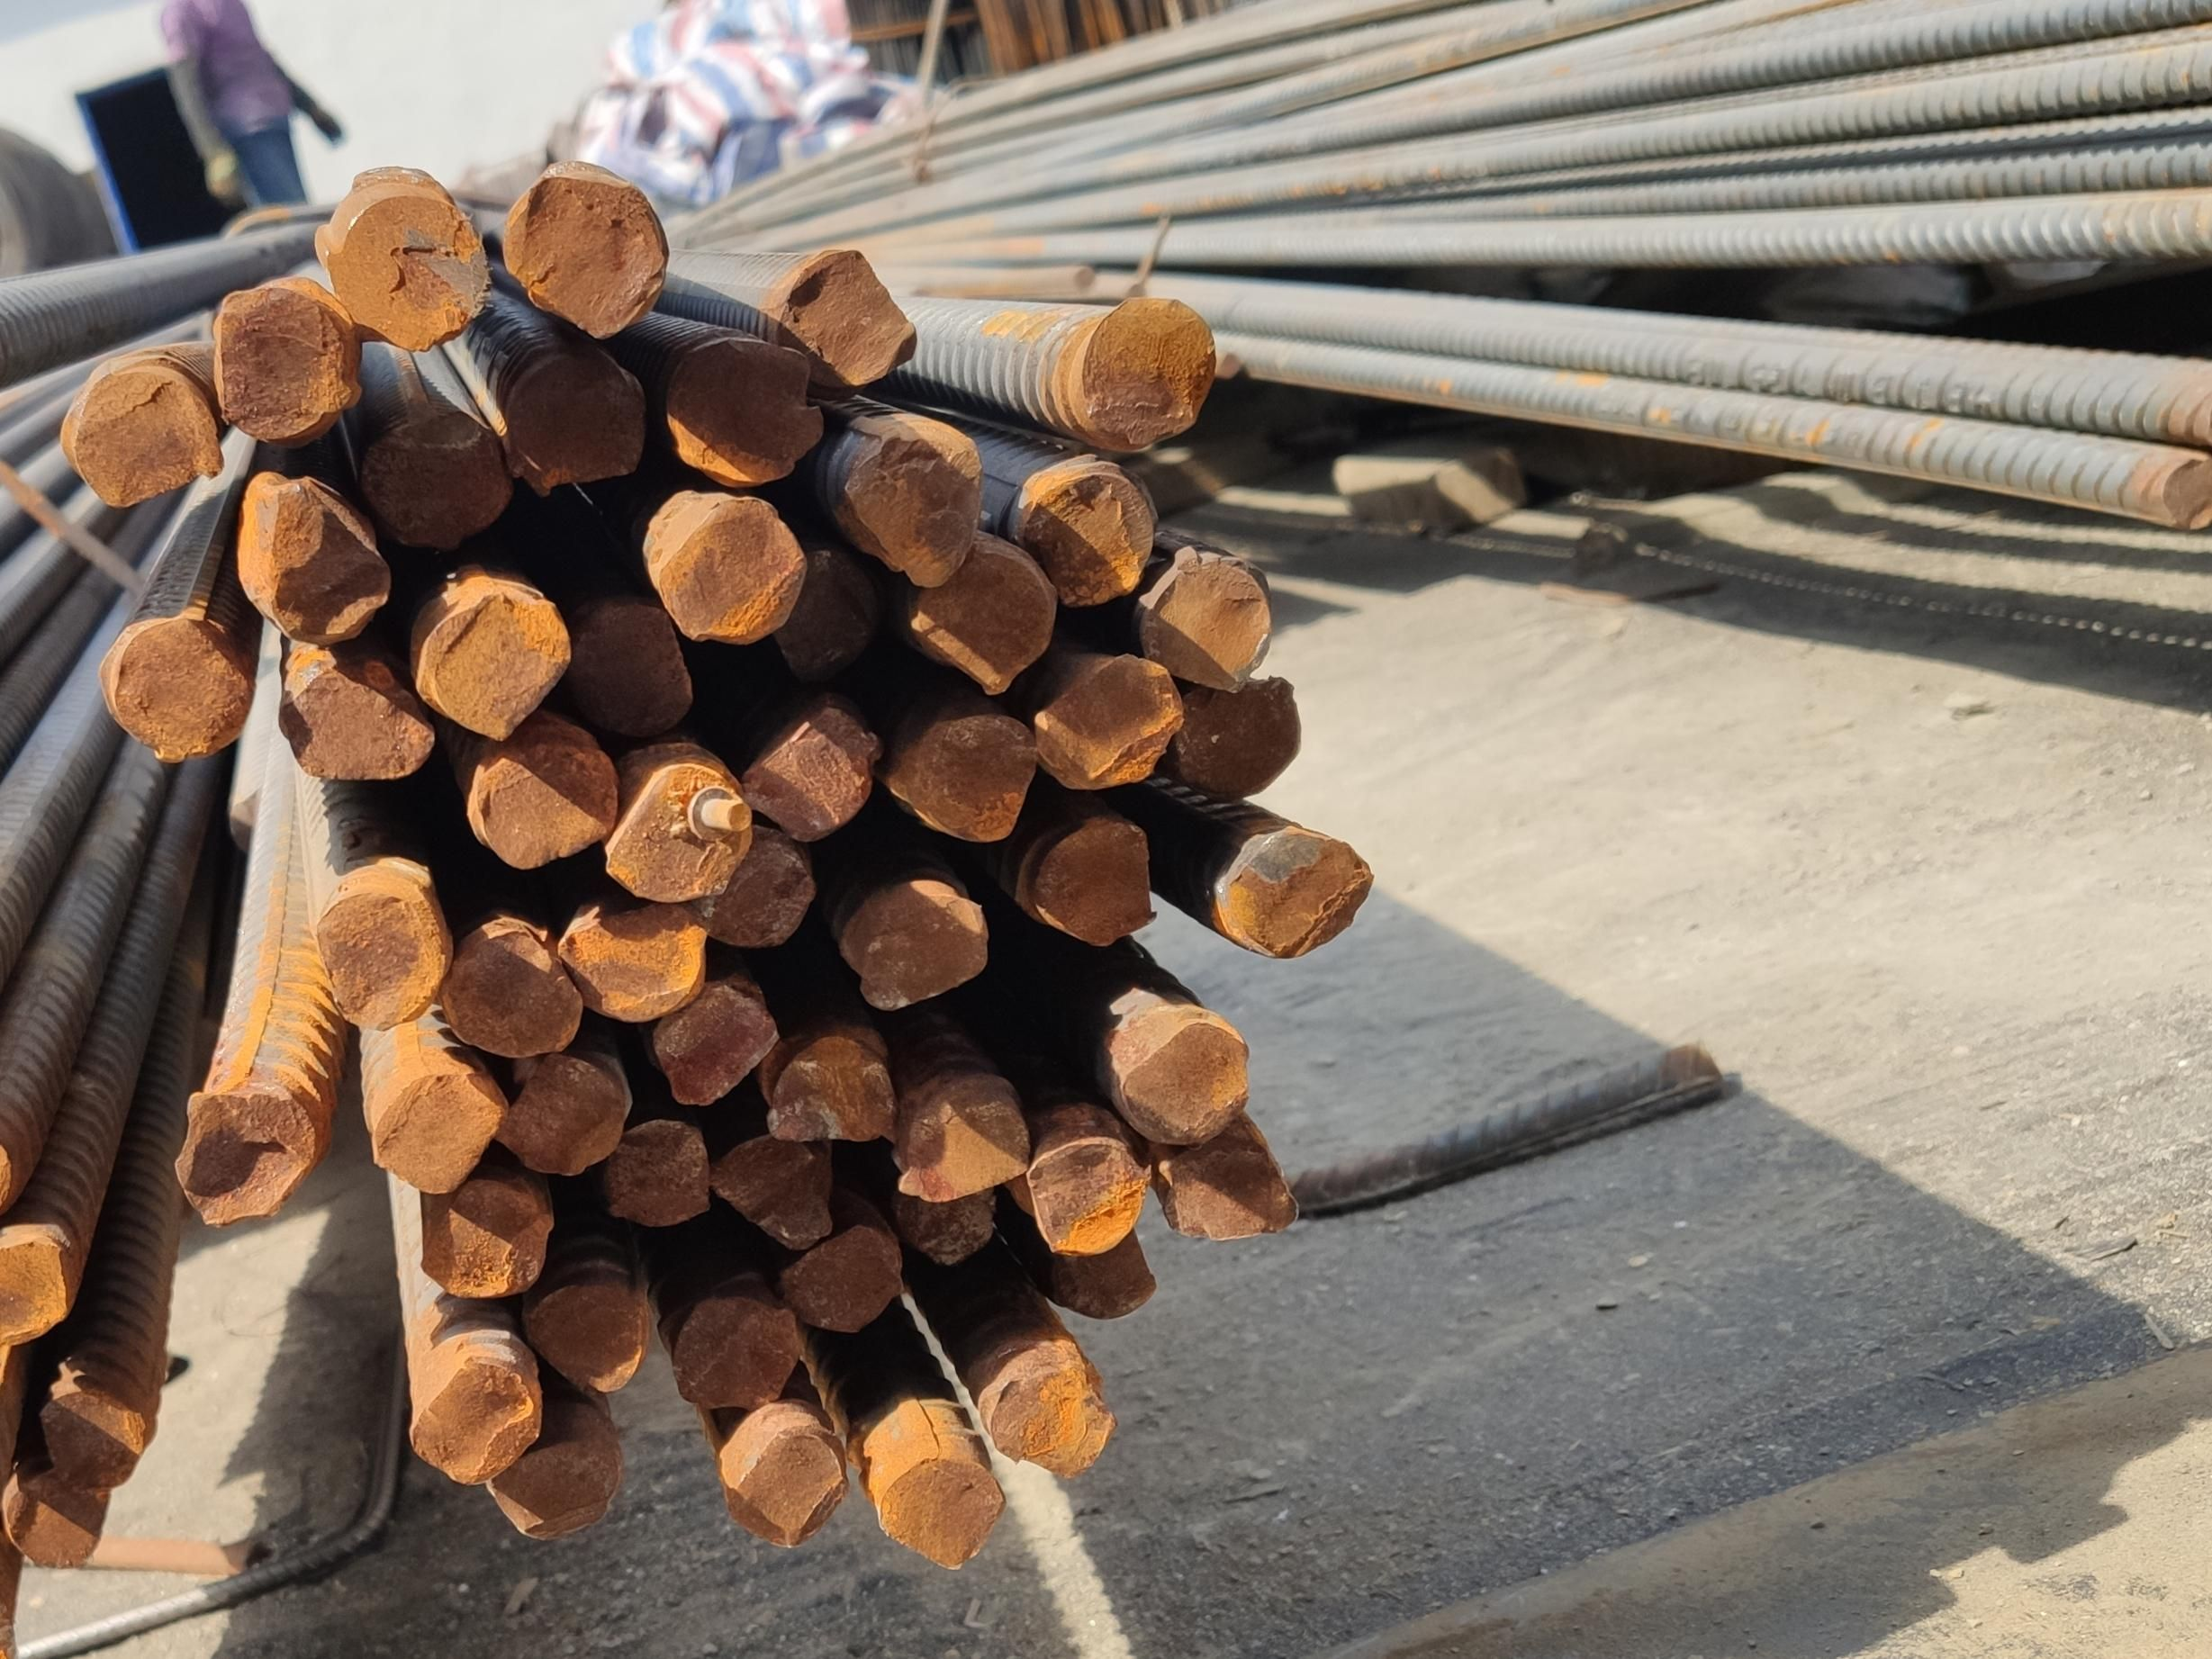rebar: (501, 164, 673, 340), (320, 191, 500, 351), (235, 477, 397, 646), (66, 356, 230, 515), (91, 607, 251, 765), (415, 578, 568, 744), (210, 275, 356, 445), (662, 335, 824, 482), (845, 421, 986, 591), (359, 394, 512, 547), (838, 864, 993, 1015), (910, 551, 1061, 704), (885, 700, 1042, 848), (1011, 454, 1159, 607), (168, 1075, 318, 1228), (602, 762, 759, 907), (1079, 292, 1220, 452), (1211, 830, 1375, 963), (649, 500, 802, 643), (1142, 544, 1276, 699), (464, 738, 622, 870), (1034, 655, 1184, 792), (498, 356, 653, 491), (555, 900, 716, 1028), (435, 931, 584, 1066), (772, 245, 919, 383), (743, 708, 881, 850), (869, 1442, 1011, 1582), (275, 659, 437, 783), (390, 1354, 543, 1485), (312, 889, 446, 1032), (1157, 1114, 1294, 1248), (366, 1068, 503, 1199), (572, 591, 698, 731), (415, 1183, 557, 1303), (1119, 1019, 1254, 1147), (1175, 672, 1305, 799), (496, 1059, 631, 1179), (667, 1298, 809, 1411), (491, 1420, 624, 1539), (1034, 821, 1160, 945), (655, 987, 781, 1111), (721, 1422, 849, 1546), (692, 837, 820, 954), (986, 1366, 1119, 1482), (590, 1116, 719, 1231), (530, 1273, 646, 1401), (770, 1033, 901, 1147), (782, 1224, 910, 1339), (710, 1129, 835, 1246), (1022, 1136, 1146, 1253), (898, 1105, 1034, 1208), (37, 1384, 154, 1492), (5, 1467, 113, 1572), (883, 1190, 1002, 1280), (1045, 1244, 1162, 1332), (3, 1226, 75, 1352)
